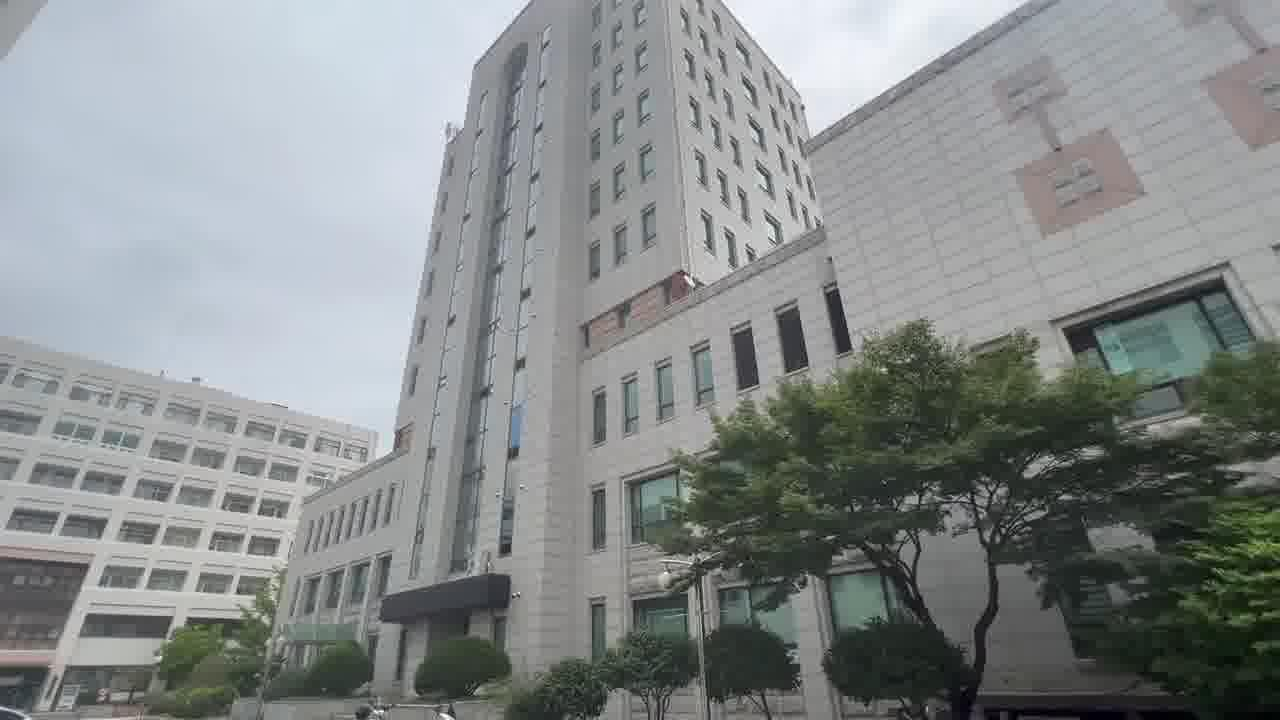building: (412, 32, 679, 570)
